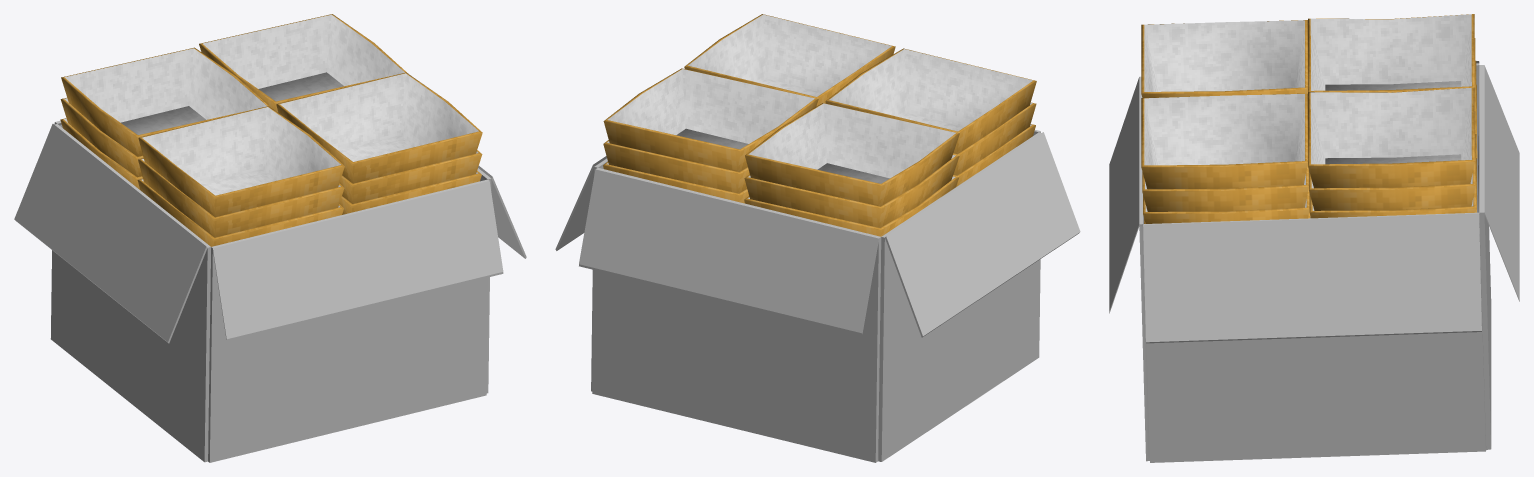
The model's file is BoxBox2.fbx.
The picture shows the model from 3 angles, left to right: view 1: azimuth 30°, elevation 25°; view 2: azimuth 150°, elevation 25°; view 3: azimuth 270°, elevation 25°; orthographic projection. The views are drawn at different scales.
Parts seen in each view (by area): view 1: Box.003; view 2: Box.003; view 3: Box.003.
Part boxes in pixels (<box>): Box.003: <box>14,14,526,462</box>; Box.003: <box>555,14,1080,462</box>; Box.003: <box>1109,14,1519,462</box>.
Bounding box in the file's own units: 99.36 × 72.96 × 90.12.
